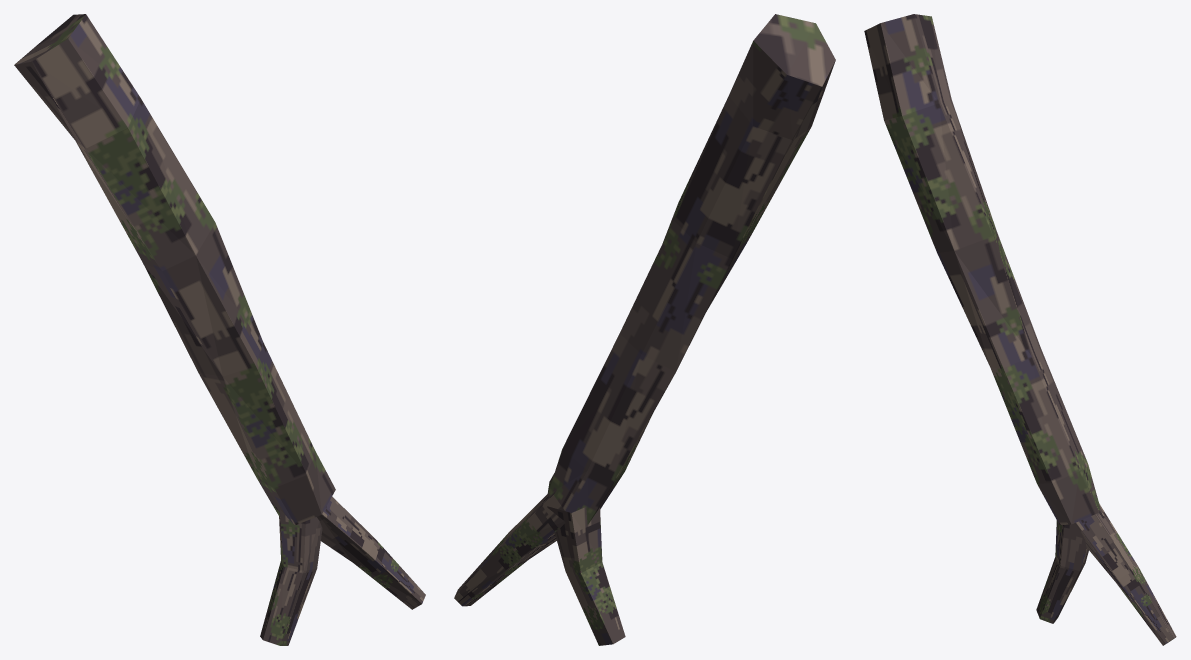
File: SM_CV_WallRootB.fbx
3 renders of one model, left to right at view 1: azimuth 30°, elevation 25°; view 2: azimuth 150°, elevation 25°; view 3: azimuth 330°, elevation 25°, orthographic. The views are drawn at different scales.
Parts seen in each view (by area): view 1: CV_WallRootB_Root; view 2: CV_WallRootB_Root; view 3: CV_WallRootB_Root.
Part boxes in pixels (x1=…): CV_WallRootB_Root: x1=14, y1=14, x2=425, y2=645; CV_WallRootB_Root: x1=454, y1=14, x2=835, y2=645; CV_WallRootB_Root: x1=864, y1=14, x2=1176, y2=645.
Bounding box in the file's own units: 1.77 × 2.93 × 0.4073.
